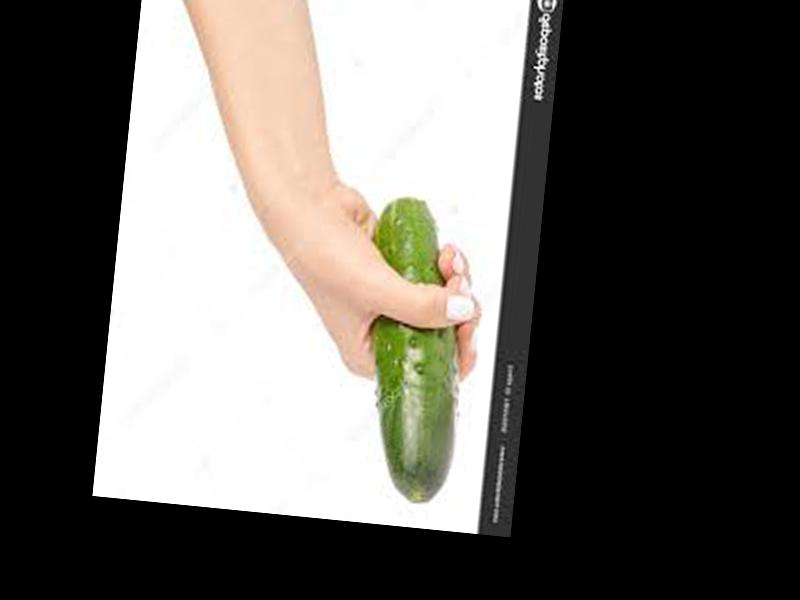Cucumber: (347, 196, 478, 506)
